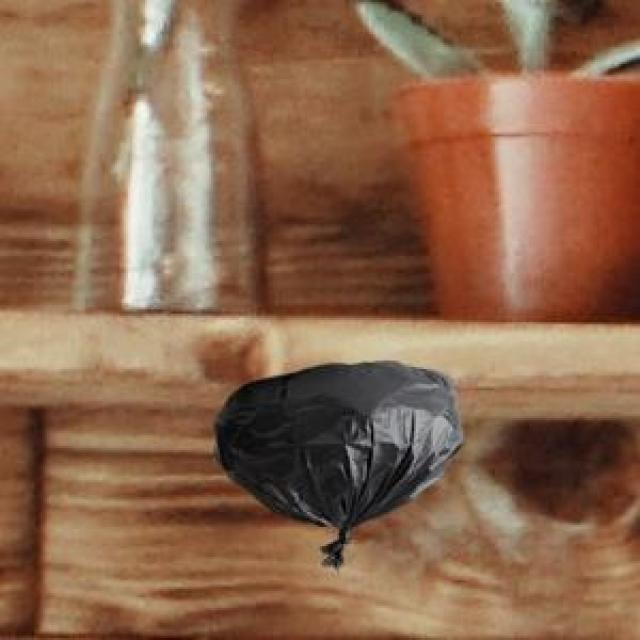miscellaneous trash: (211, 356, 459, 563)
